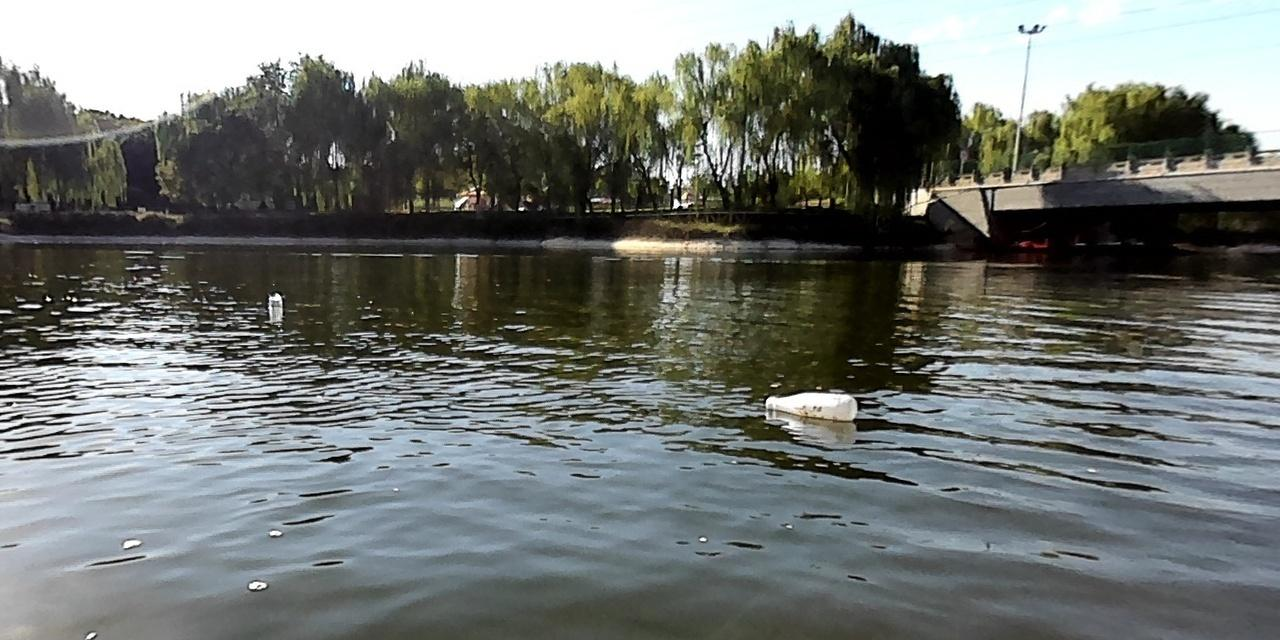bottle: (760, 389, 854, 419), (266, 291, 287, 308)
